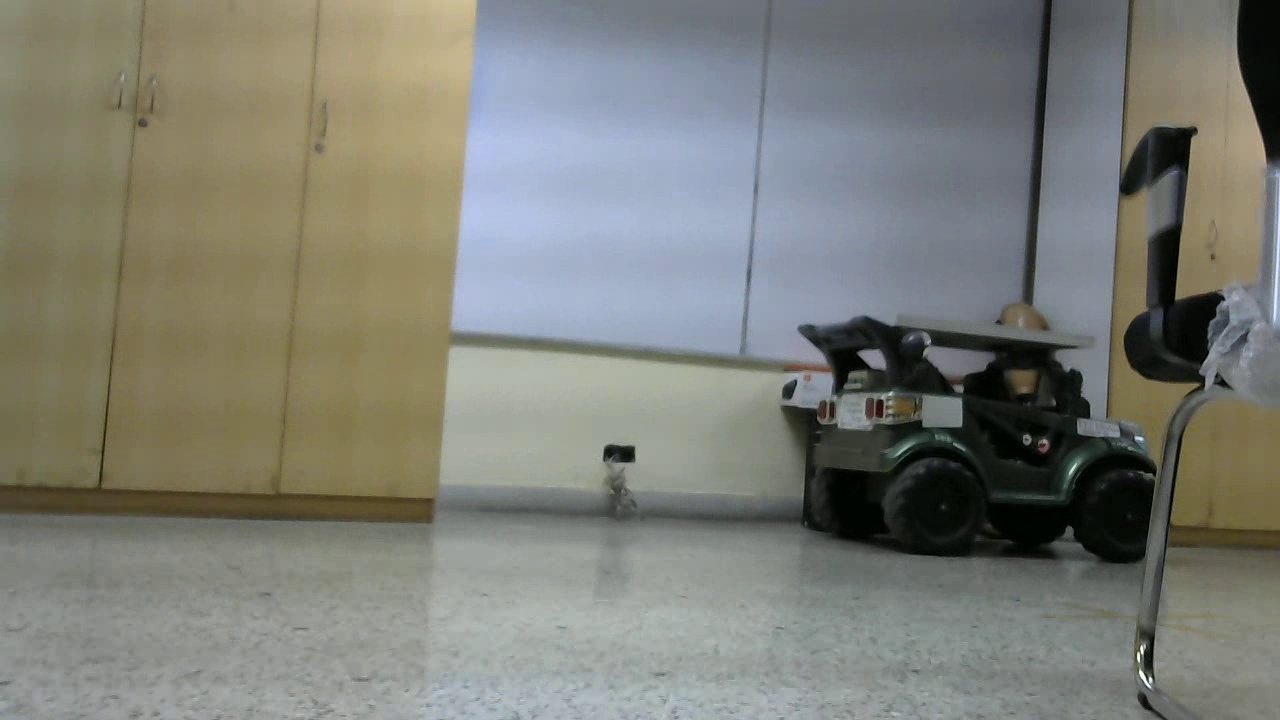chair: (546, 74, 820, 610)
